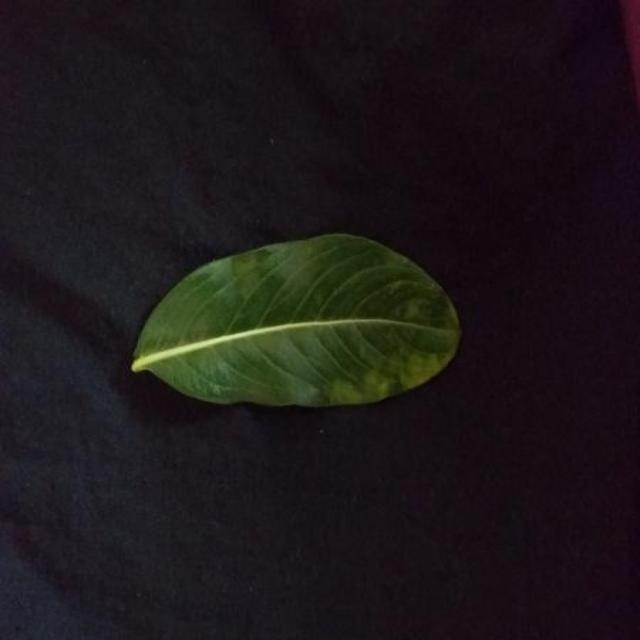catharanthus: (132, 234, 460, 406)
defectedcatharanthus: (135, 234, 458, 357)
